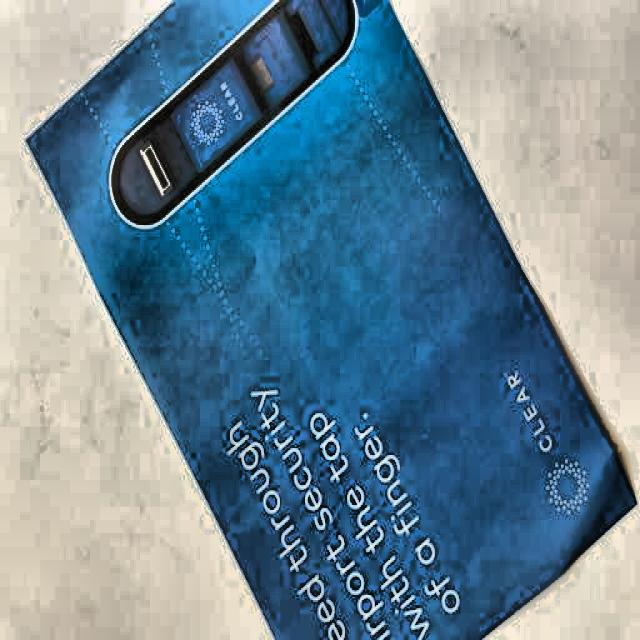paper: (28, 1, 607, 640)
